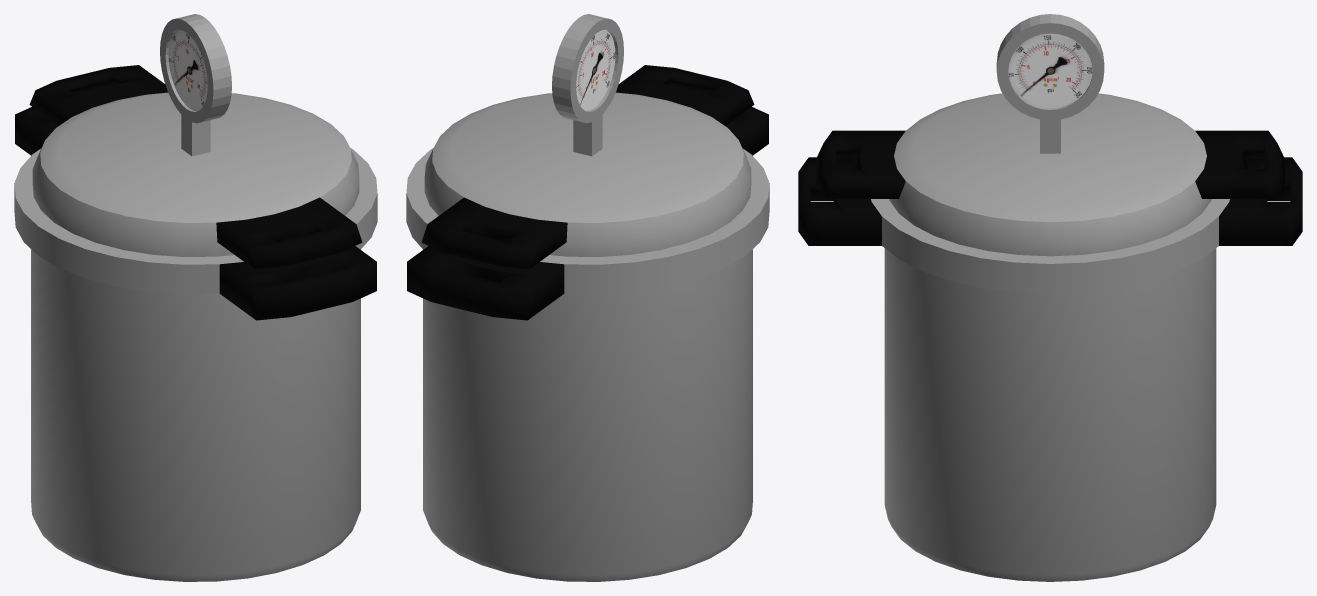
3 renders of one model, left to right at view 1: azimuth 30°, elevation 25°; view 2: azimuth 150°, elevation 25°; view 3: azimuth 270°, elevation 25°, orthographic.
Visible parts, largest first — view 1: S-28; view 2: S-28; view 3: S-28.
Part boxes in pixels (<box>): S-28: <box>14,14,377,581</box>; S-28: <box>406,14,769,581</box>; S-28: <box>798,14,1302,581</box>.
Size of the model in its own units: 33 by 49.76 by 45.66.
Materials: 3 (1 with a texture image).
